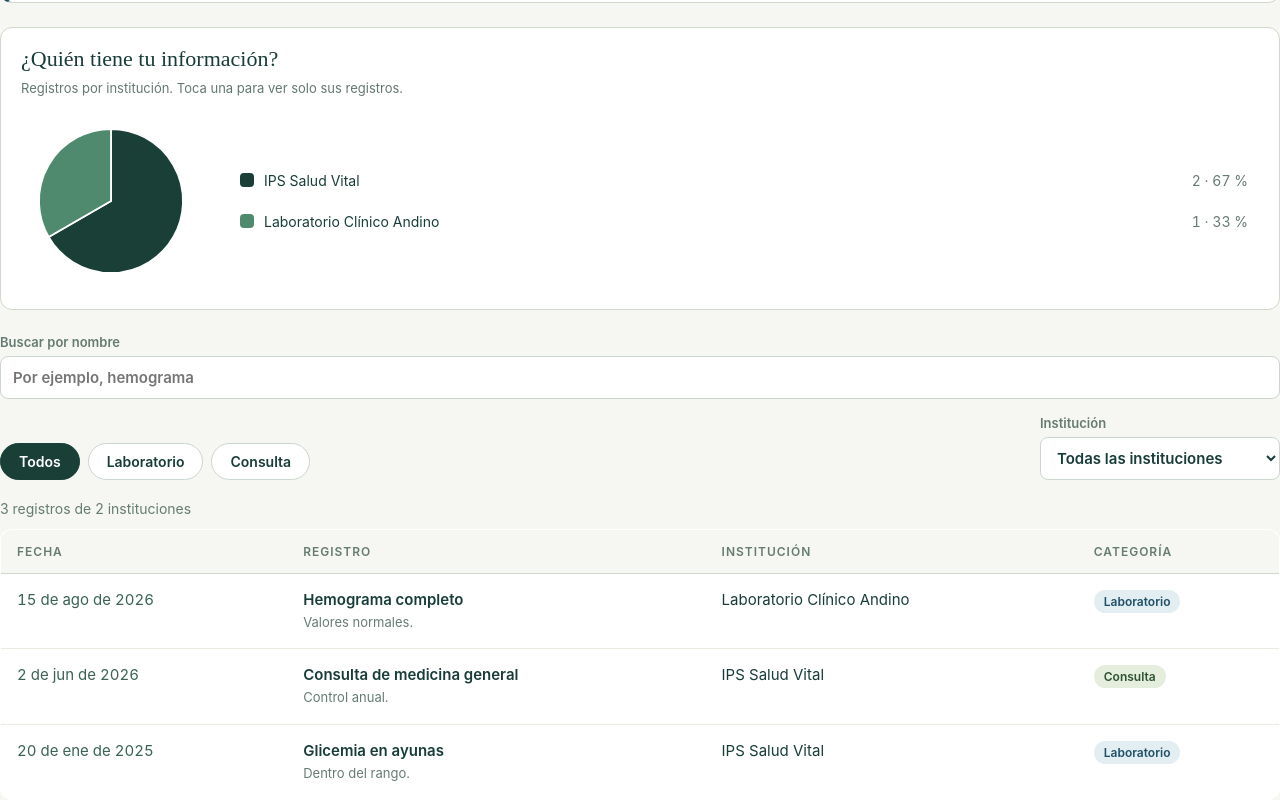
Test: Filtros del historial (US-04, US-05) › combina filtros, avisa cuando no hay resultados y permite quitarlos
(page scrolled)
expect the table is shown: met, box top-left (0, 529), bottom-right (1279, 799)
Select "Laboratorio Clínico Andino" in the dropdown labelled "Institución" at (1160, 458), box top-left (1040, 437), bottom-right (1279, 480)
(page scrolled)
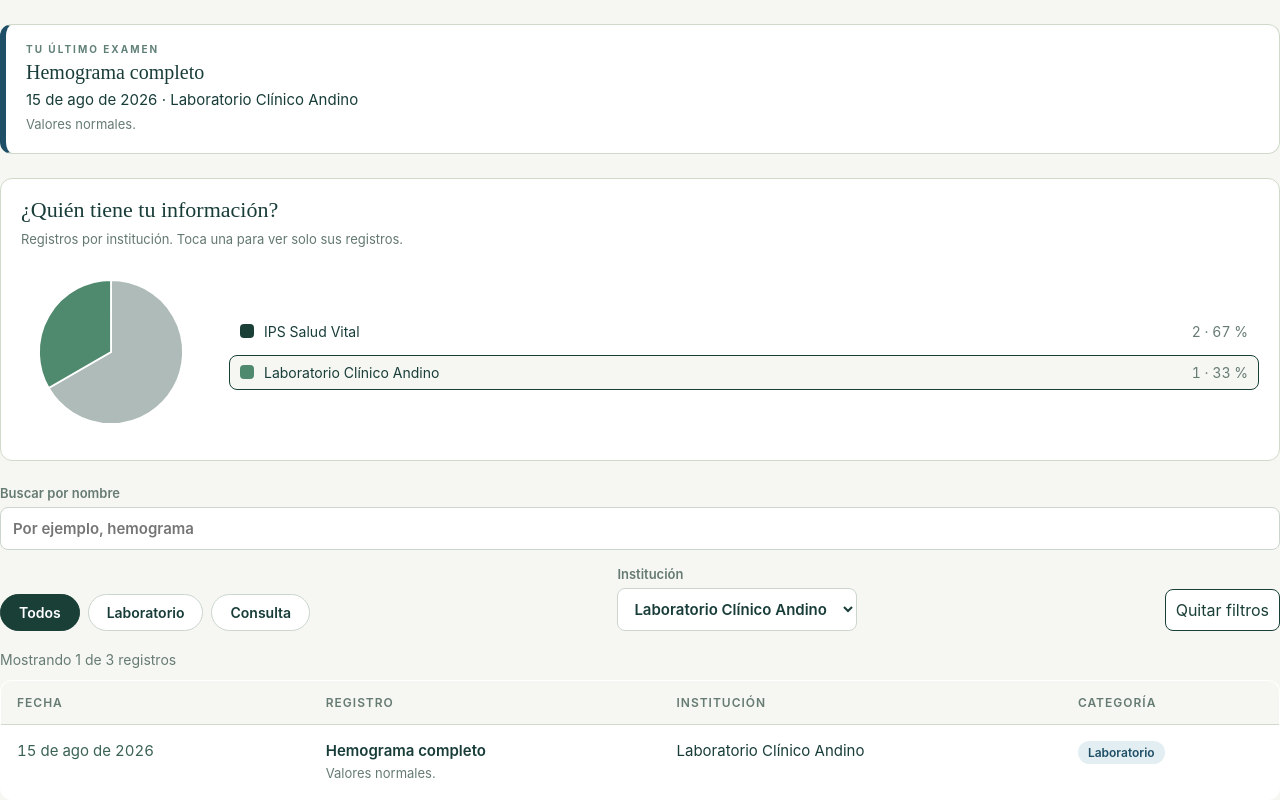
Click the button "Consulta".
click(261, 612)  # box top-left (212, 594), bottom-right (310, 631)
(page scrolled)
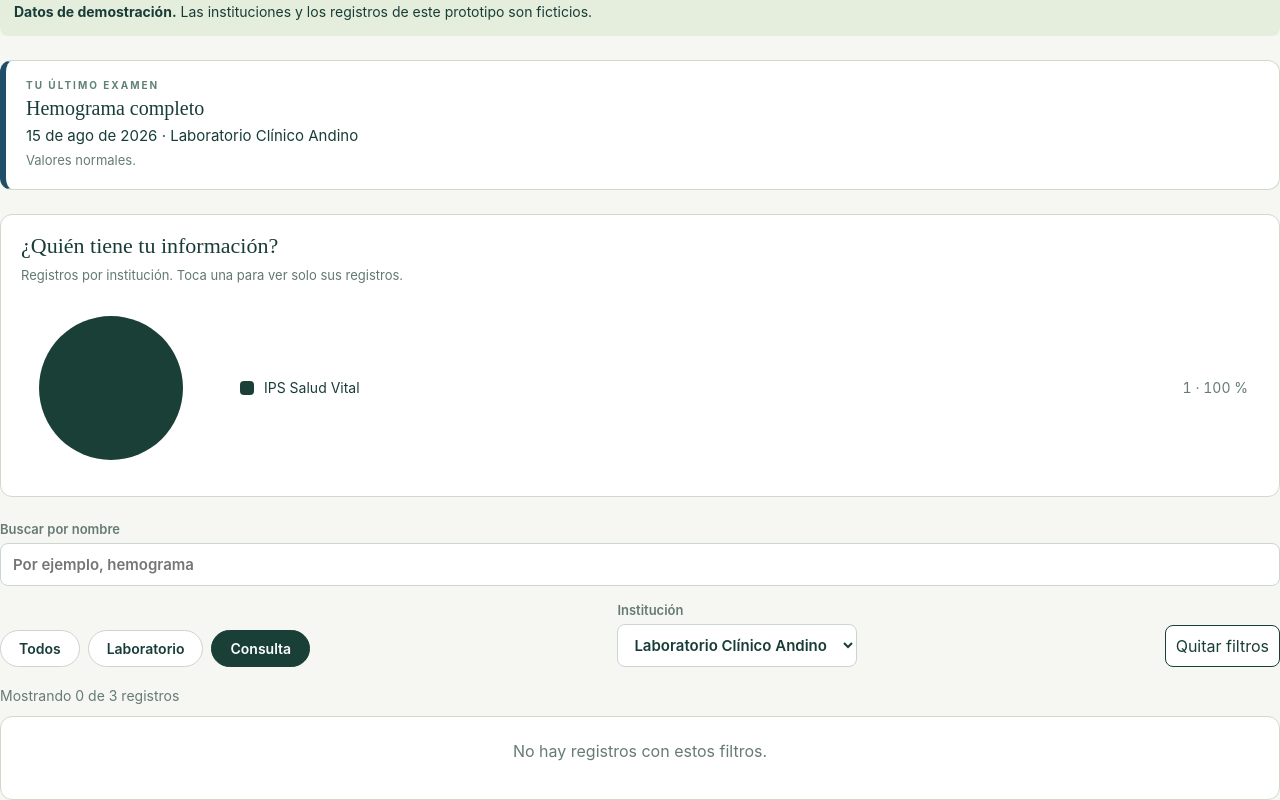
expect the text "No hay registros con estos filtros." is shown: met, box top-left (513, 741), bottom-right (767, 761)
Click the button "Quitar filtros".
click(1222, 646)  # box top-left (1165, 625), bottom-right (1279, 667)
(page scrolled)
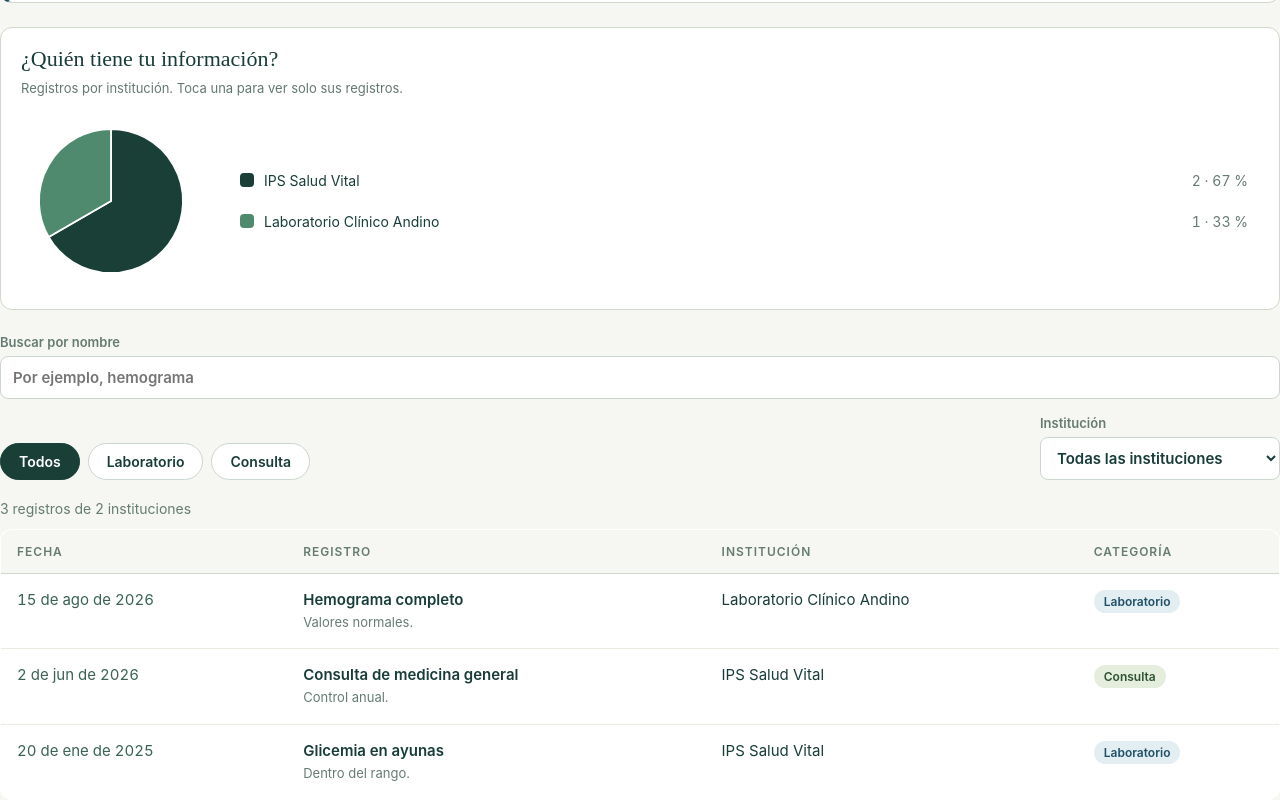
expect the text "3 registros de 2 instituciones" is shown: met, box top-left (0, 500), bottom-right (191, 517)
